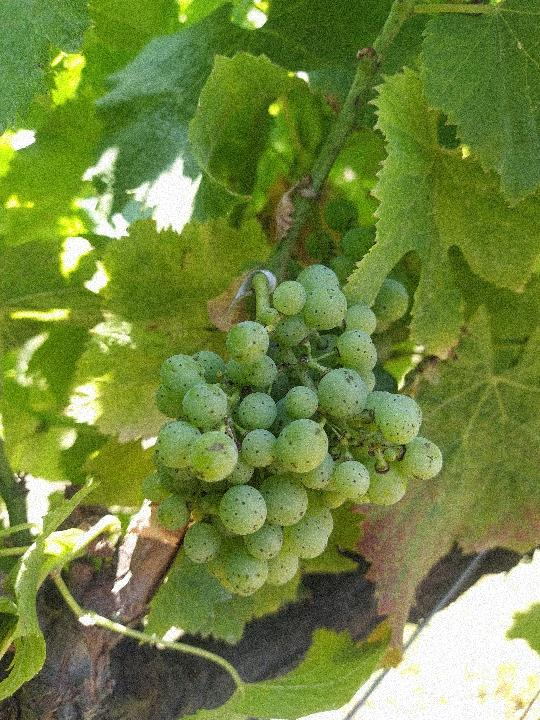grape: (137, 261, 444, 598)
